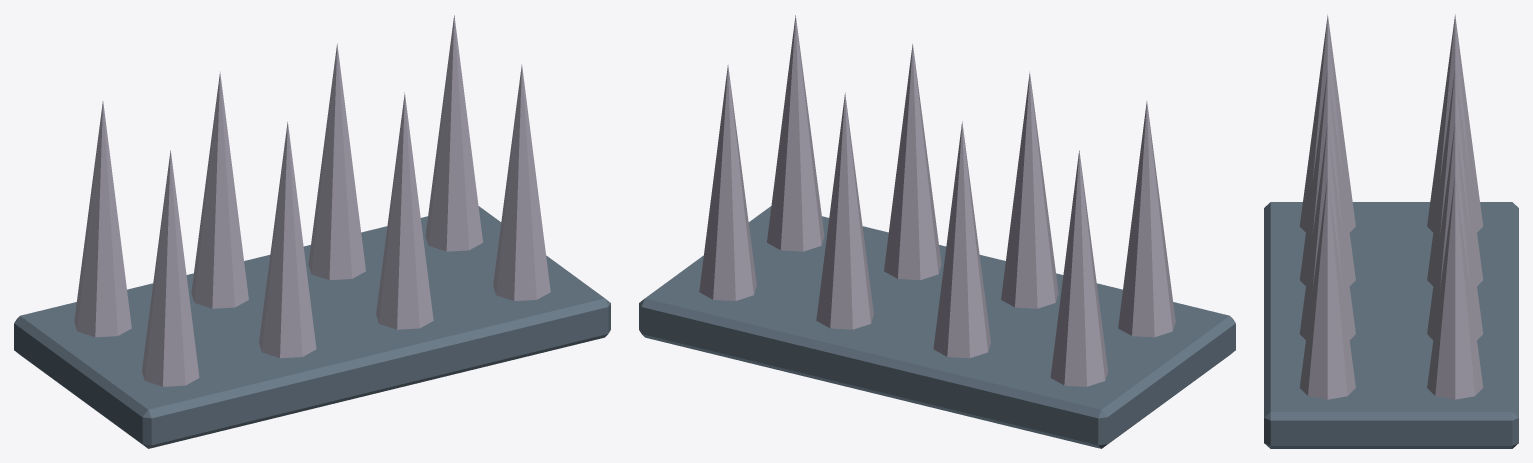
File: SH10_L04_SpikeTrap.fbx
3 views of the same model, side by side, from view 1: azimuth 30°, elevation 25°; view 2: azimuth 150°, elevation 25°; view 3: azimuth 270°, elevation 25° (orthographic). The views are drawn at different scales.
Visible parts, largest first — view 1: SH10_L04_SpikeTrap; view 2: SH10_L04_SpikeTrap; view 3: SH10_L04_SpikeTrap.
Boxes of the visible parts, x1,y1,x2,y2 form: SH10_L04_SpikeTrap: (14,15,610,448); SH10_L04_SpikeTrap: (639,15,1235,448); SH10_L04_SpikeTrap: (1264,14,1518,448).
Size of the model in its own units: 200 by 108 by 100.
